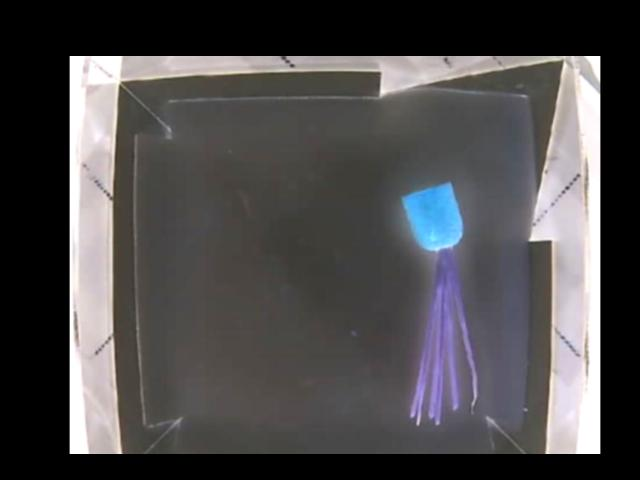Carrot: (402, 180, 466, 298)
